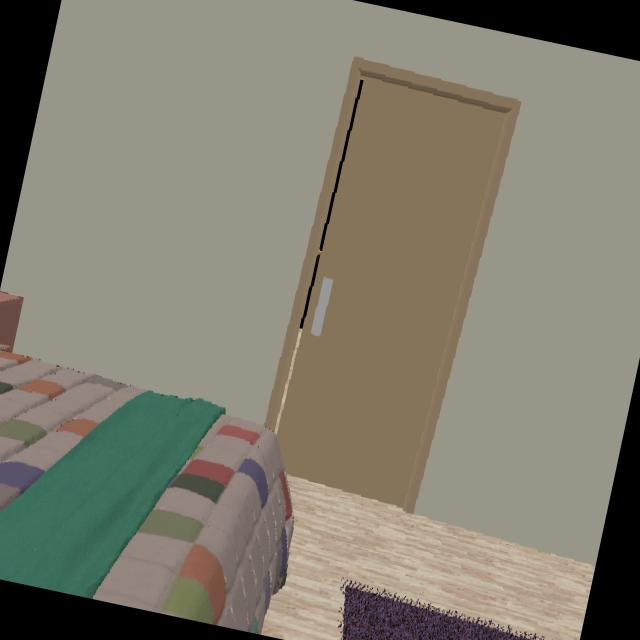bed: (0, 351, 293, 632)
nighttable: (0, 291, 23, 350)
